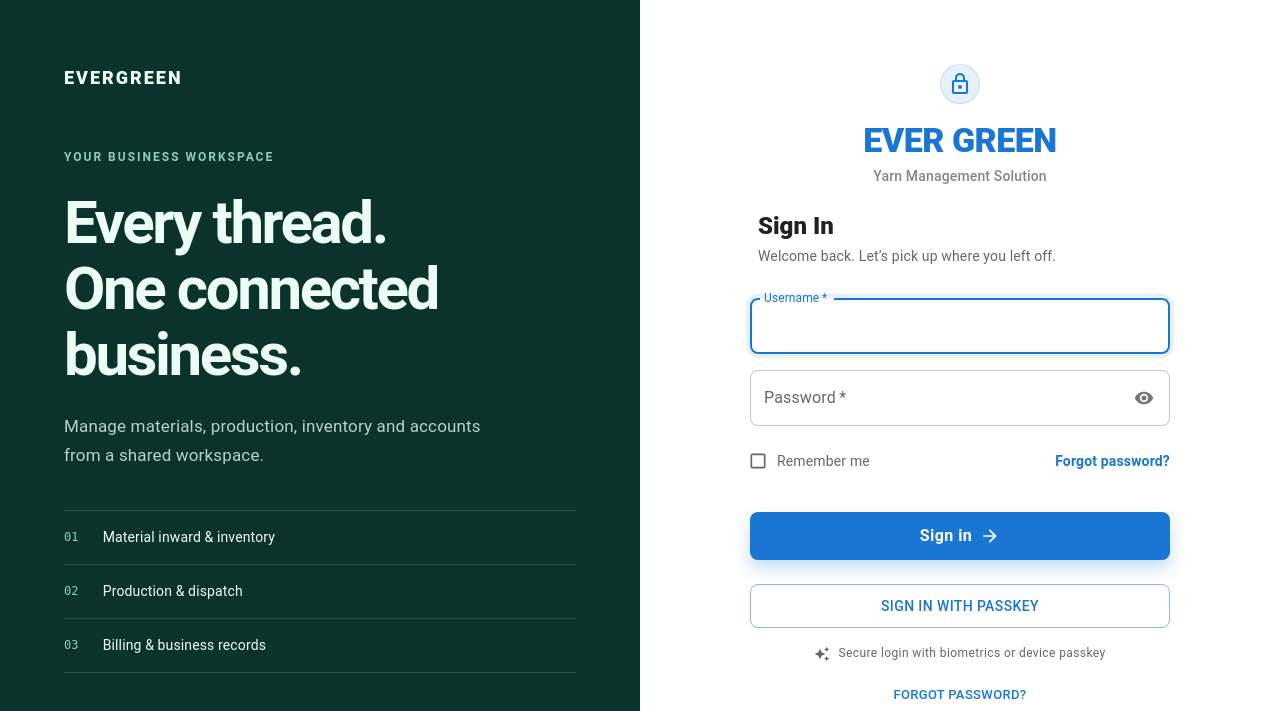
it: shows network recovery and actionable account help
In the field labelled "Username *": (960, 326) [750,298,1170,354], type " staff "
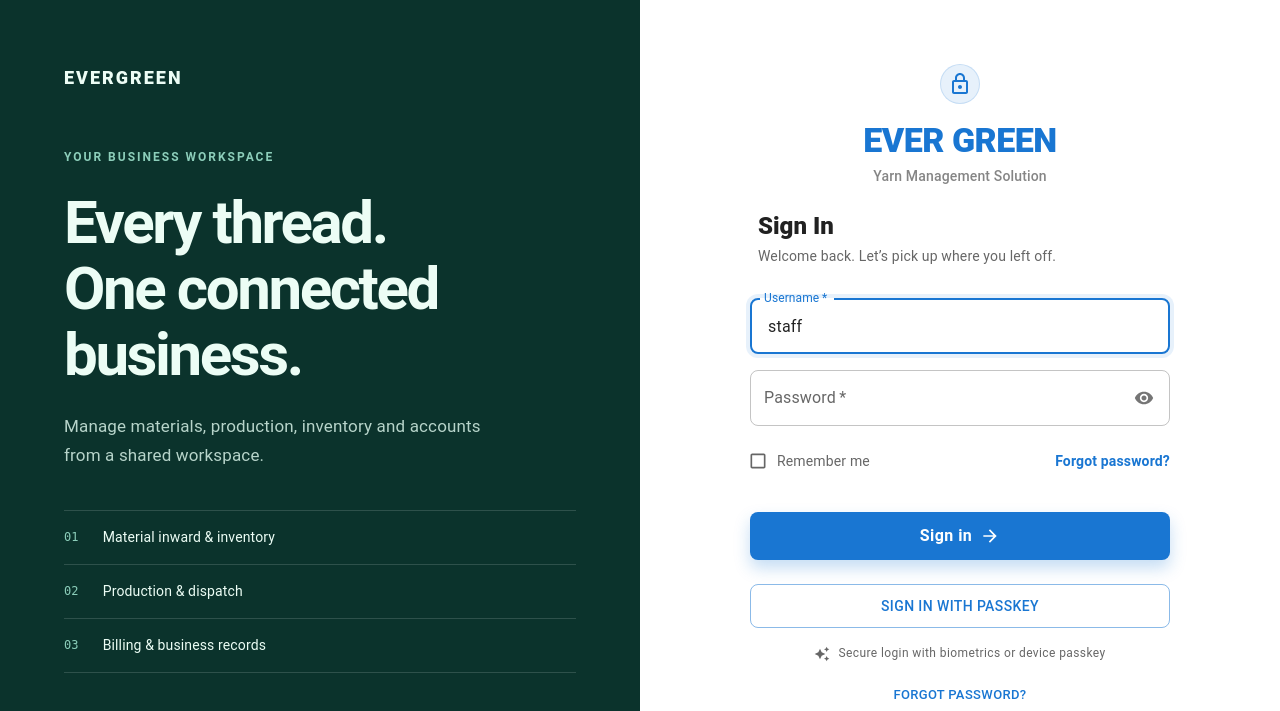
In the password field labelled "Password *": (936, 398) [750,370,1121,426], type "secret"
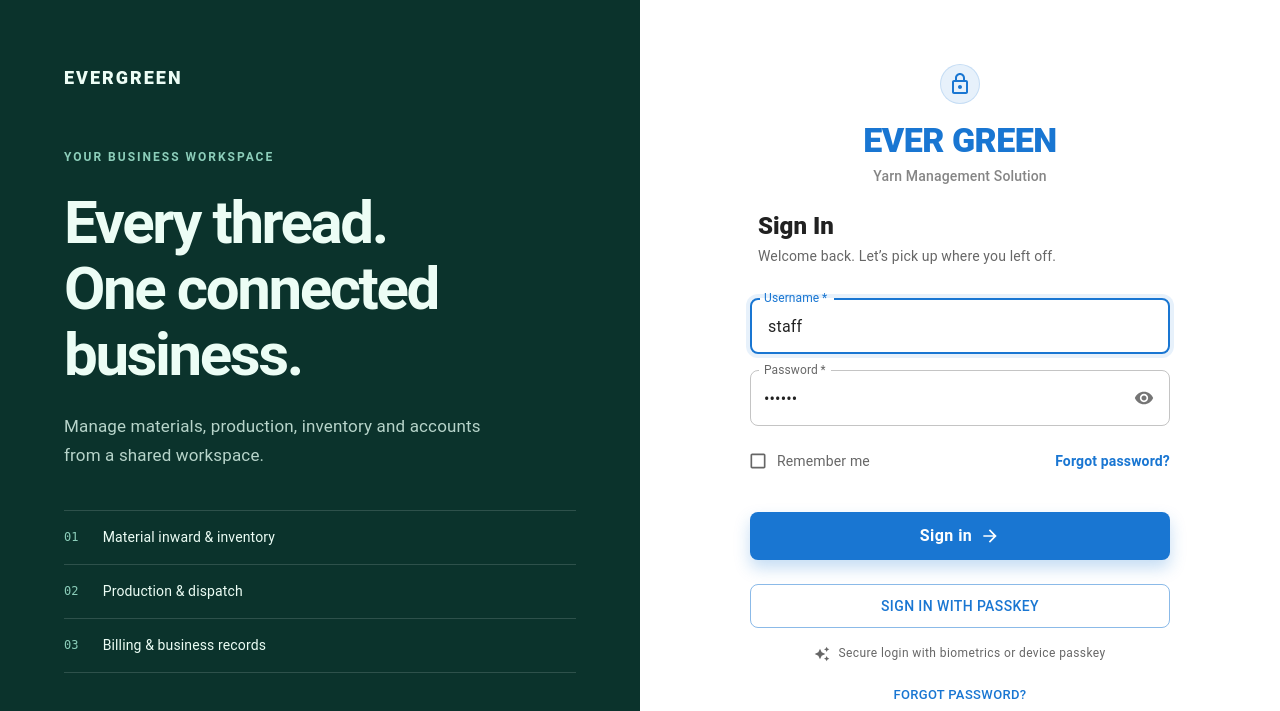
Click the button "Sign in": (960, 536) [750,512,1170,560]
(page scrolled)
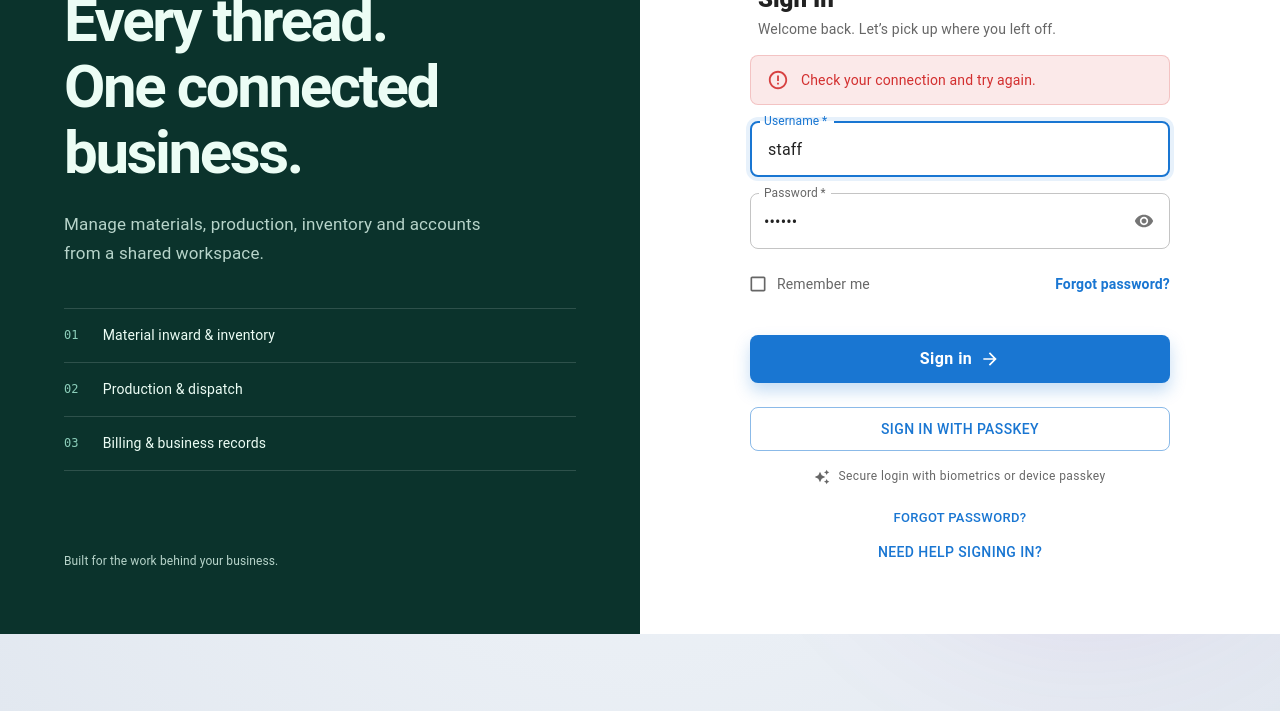
Result: the text "Check your connection and try again." is shown at [801,72,1036,88]
Click the button "Need help signing in?": (960, 552) [750,534,1170,570]
(page scrolled)
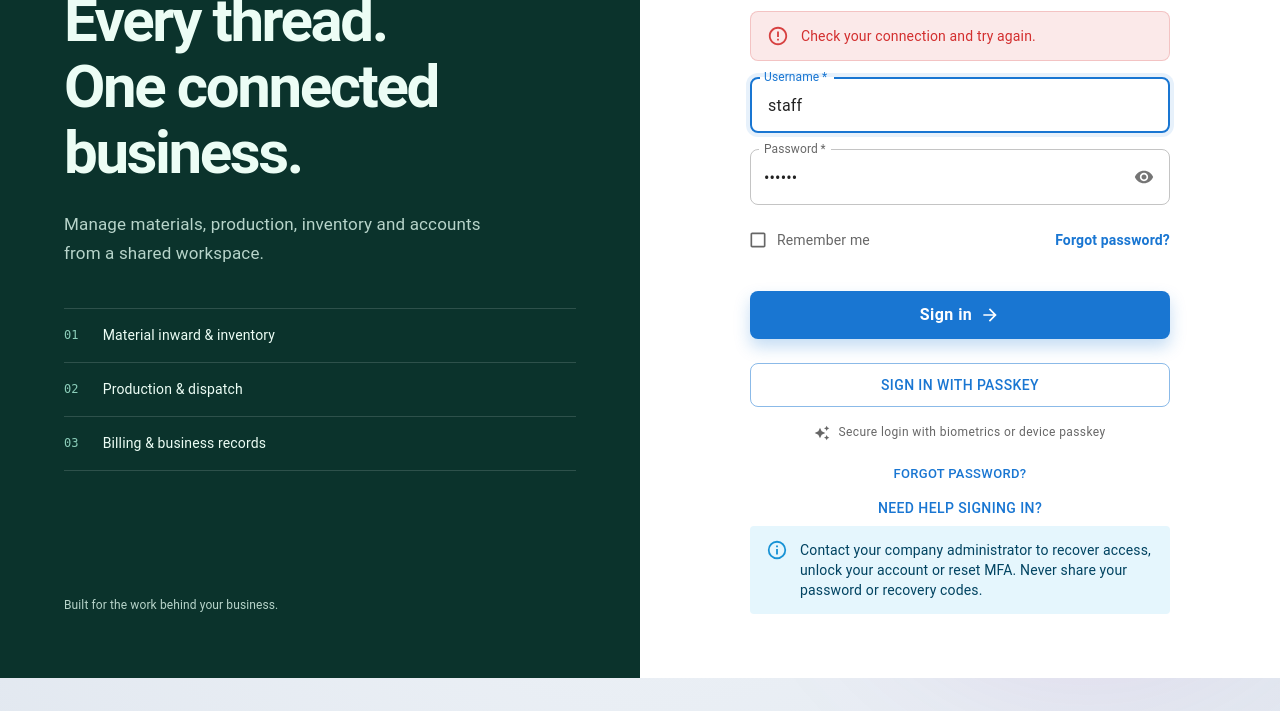
Result: the text "Contact your company administrator" is shown at [800,542,1151,598]
